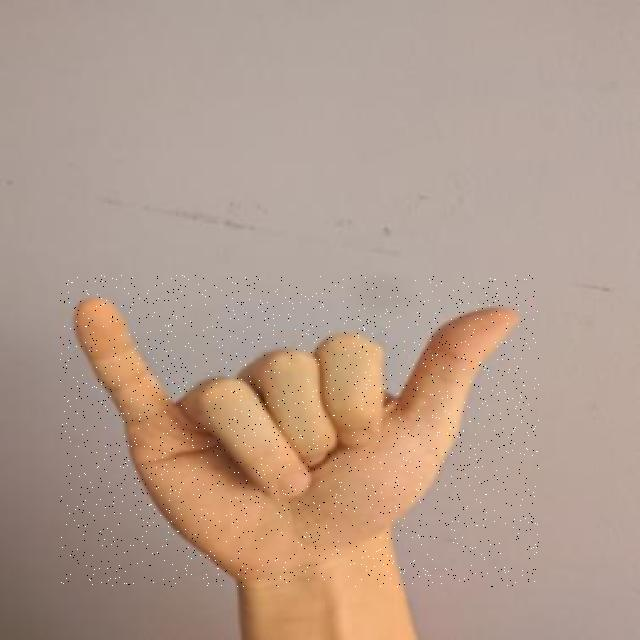Y: (60, 275, 539, 587)
